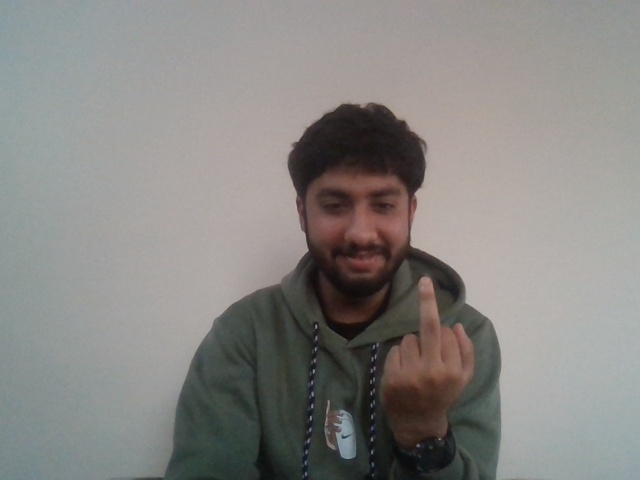Hello: (378, 273, 477, 411)
